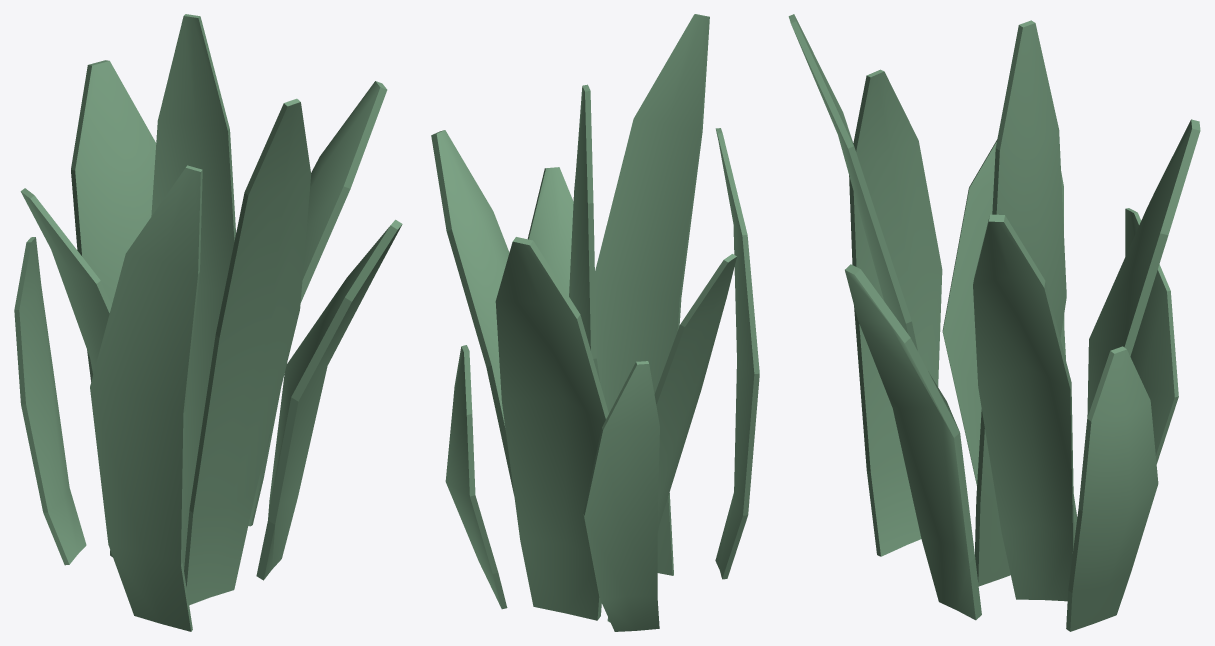
The model's file is a_z3_grass_l.fbx.
The picture shows the model from 3 angles, left to right: view 1: azimuth 30°, elevation 25°; view 2: azimuth 150°, elevation 25°; view 3: azimuth 270°, elevation 25°; orthographic projection. The views are drawn at different scales.
Visible parts, largest first — view 1: a_z3_grass_l; view 2: a_z3_grass_l; view 3: a_z3_grass_l.
Boxes of the visible parts, bbox=[...] form: a_z3_grass_l: bbox=[14, 14, 402, 631]; a_z3_grass_l: bbox=[431, 14, 759, 631]; a_z3_grass_l: bbox=[788, 14, 1200, 631].
Bounding box in the file's own units: 66.86 × 102 × 67.05.
